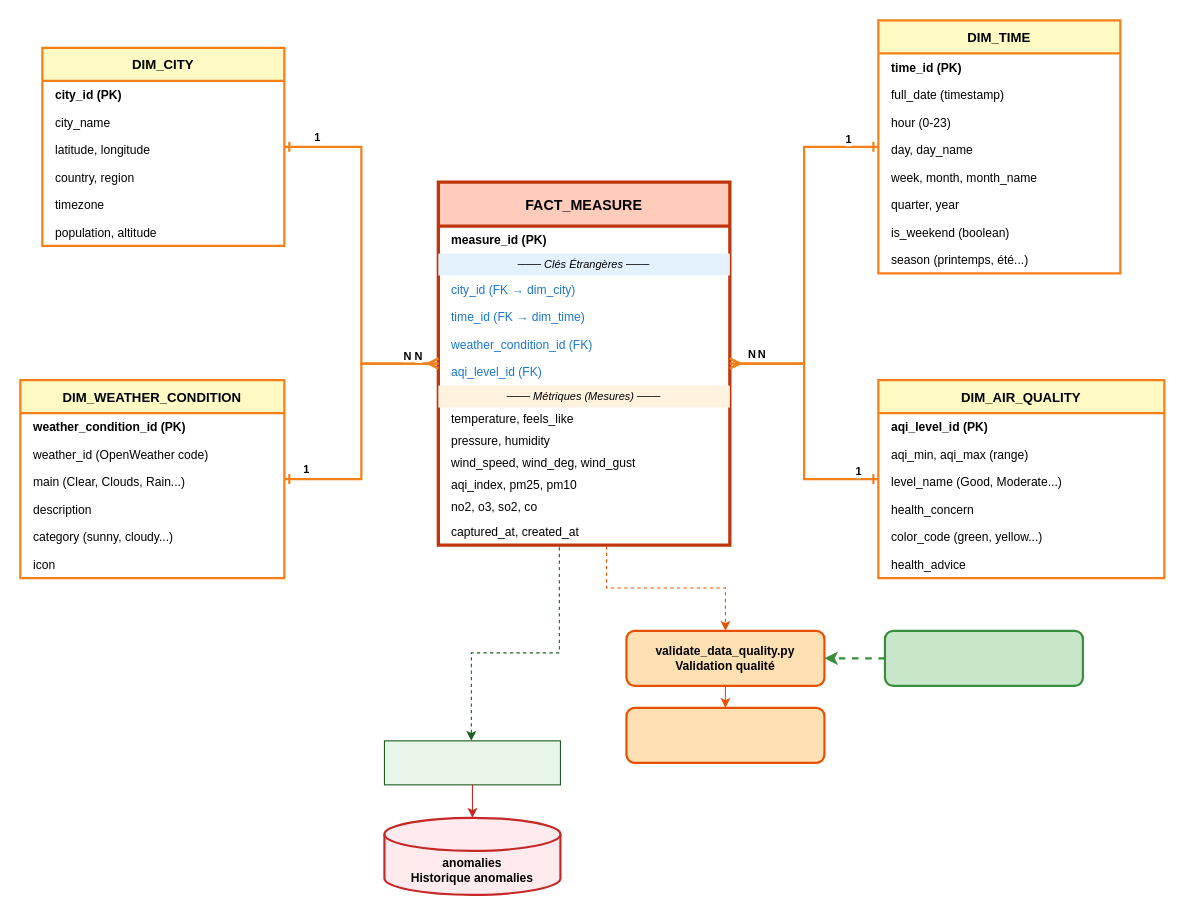
This 1184x914 diagram has some shape labels left out. Here are the shapes that lost their labels. From the top down, the centre of each, then its label:
At point (983, 657): "GitHub Actions Workflows CRON".
At point (725, 734): "cleanup_data_quality_issues.py Nettoyage automatique".
At point (471, 762): "AnomalyDetectionService".
